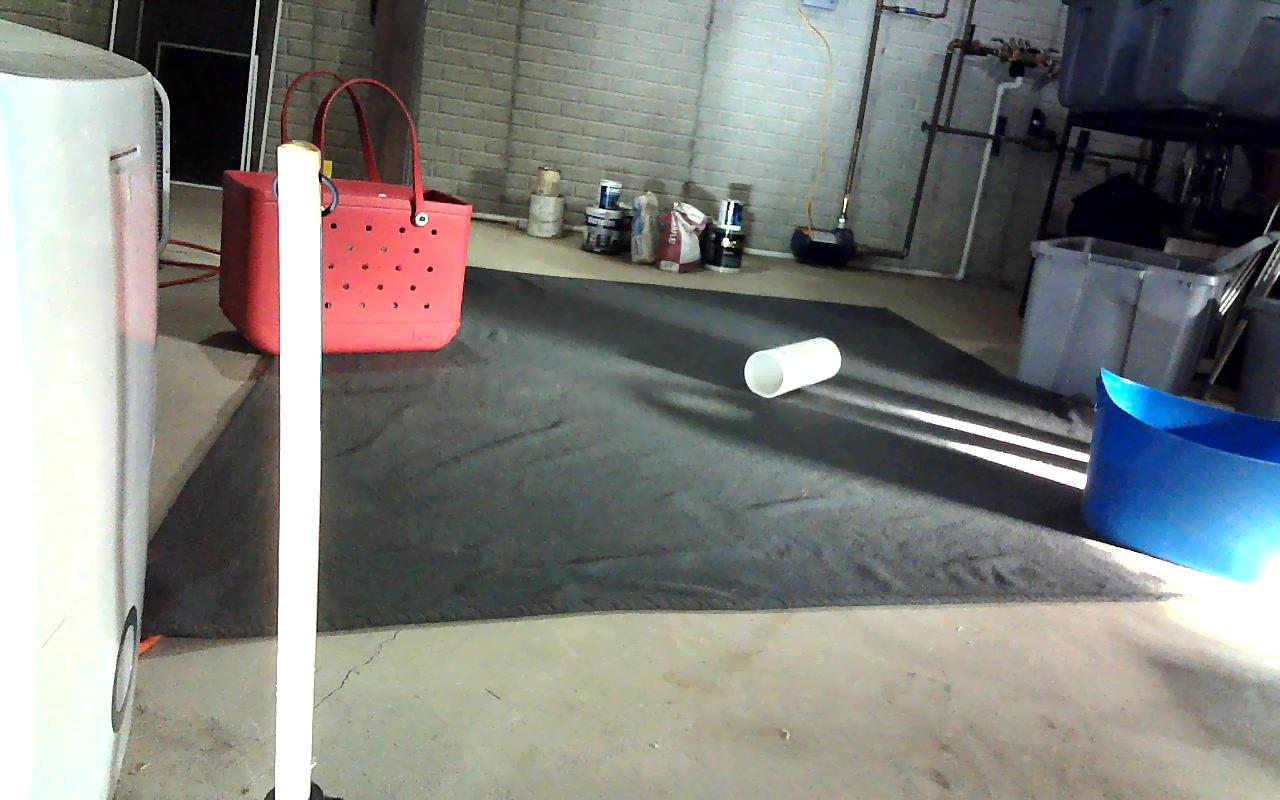coral: (745, 337, 842, 398)
